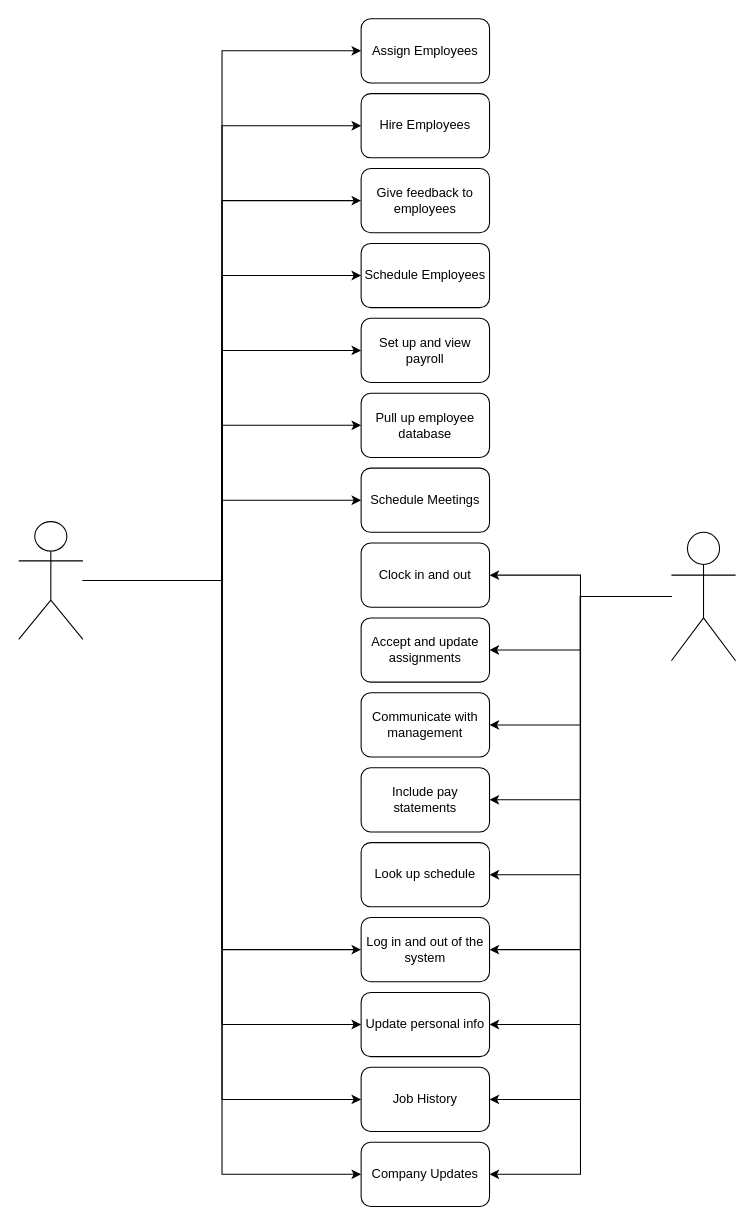
This 754x1225 diagram has some shape labels left out. The shapes that lost their labels are listed below. From the top down, each one's centre as x and y in pixels, then its label:
pixel 50 580: Admin
pixel 703 596: Employee
